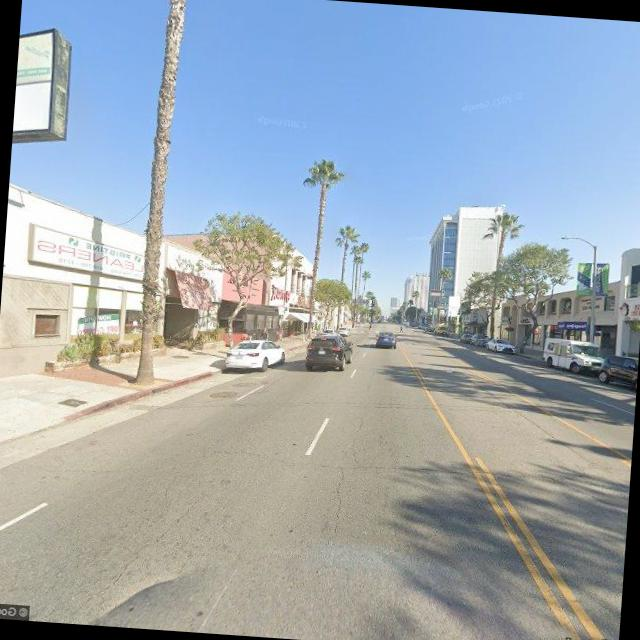crack: (82, 480, 207, 618), (232, 443, 574, 489), (325, 464, 351, 549)
